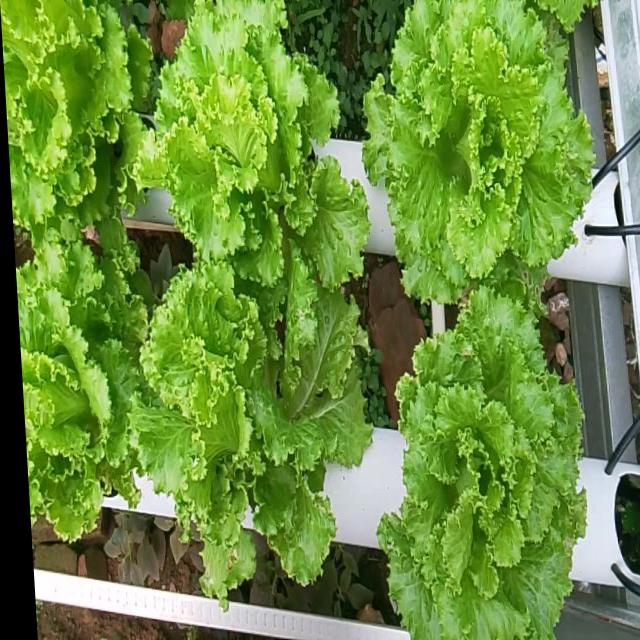Mature: (120, 276, 363, 612), (368, 292, 575, 639), (133, 1, 358, 320), (351, 1, 581, 311), (0, 0, 139, 260), (16, 256, 134, 559)
